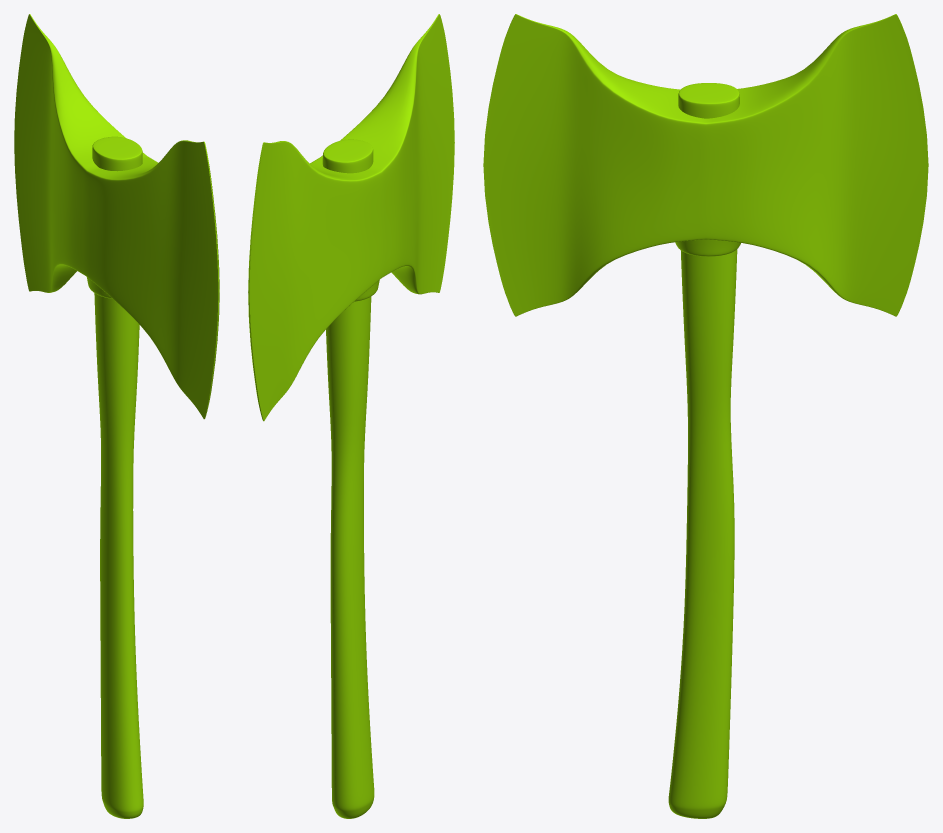
The picture shows the model from 3 angles, left to right: view 1: azimuth 30°, elevation 25°; view 2: azimuth 150°, elevation 25°; view 3: azimuth 270°, elevation 25°; orthographic projection. The views are drawn at different scales.
Parts seen in each view (by area): view 1: Iron, Cable; view 2: Iron, Cable; view 3: Iron, Cable, Holder.
Part boxes in pixels (box(x1,y1,x2,y2)): Iron: box(14, 14, 219, 419); Cable: box(92, 136, 143, 818); Iron: box(248, 14, 454, 421); Cable: box(322, 139, 374, 818); Iron: box(483, 14, 928, 316); Cable: box(668, 83, 739, 818); Holder: box(675, 239, 740, 256).
Size of the model in its own units: 0.9749 by 10.98 by 5.54.
